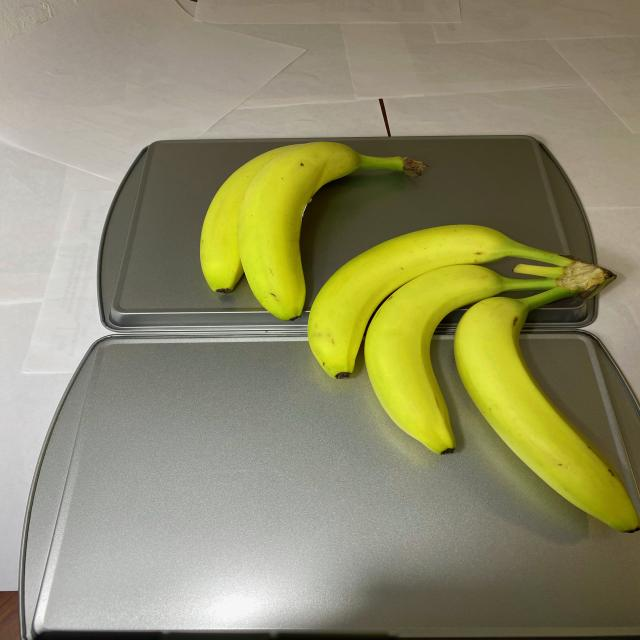banana: (198, 141, 638, 537)
